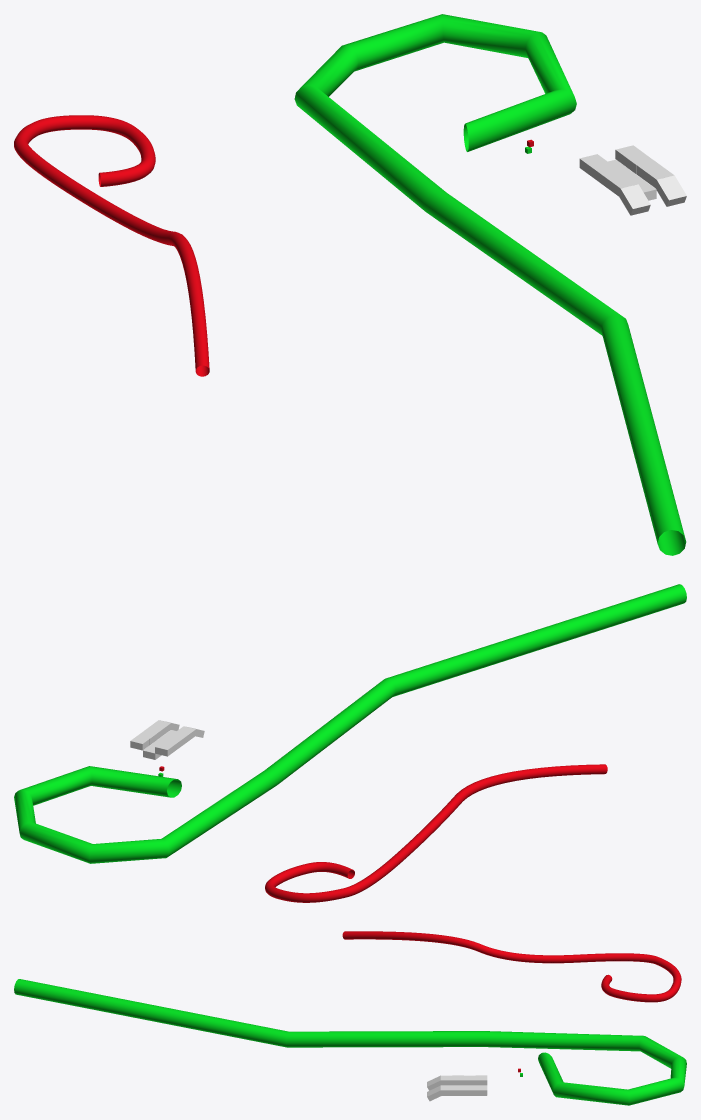
The picture shows the model from 3 angles, top to bottom: view 1: azimuth 30°, elevation 25°; view 2: azimuth 150°, elevation 25°; view 3: azimuth 270°, elevation 25°; orthographic projection. The views are drawn at different scales.
Parts seen in each view (by area): view 1: NurbsPath, NurbsPath.001; view 2: NurbsPath, NurbsPath.001; view 3: NurbsPath, NurbsPath.001.
Part boxes in pixels (x1=…): NurbsPath: x1=294, y1=14, x2=686, y2=555; NurbsPath.001: x1=14, y1=115, x2=209, y2=376; NurbsPath: x1=14, y1=584, x2=686, y2=863; NurbsPath.001: x1=265, y1=764, x2=607, y2=902; NurbsPath: x1=14, y1=979, x2=686, y2=1105; NurbsPath.001: x1=342, y1=931, x2=681, y2=1002.
Size of what is drawn, in the model's own units: 269 by 26.16 by 461.
